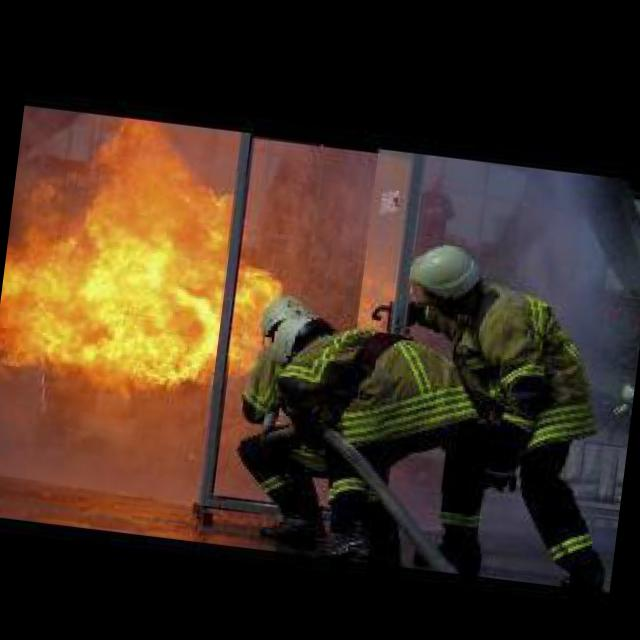fire: (0, 119, 310, 408)
